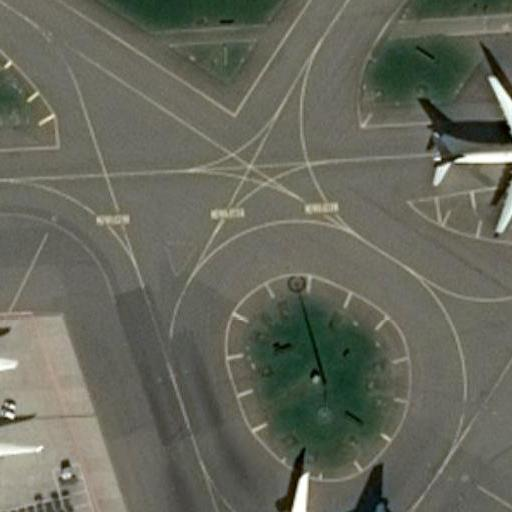Aircraft: (420, 62, 512, 233), (218, 447, 407, 512), (0, 325, 48, 512)
